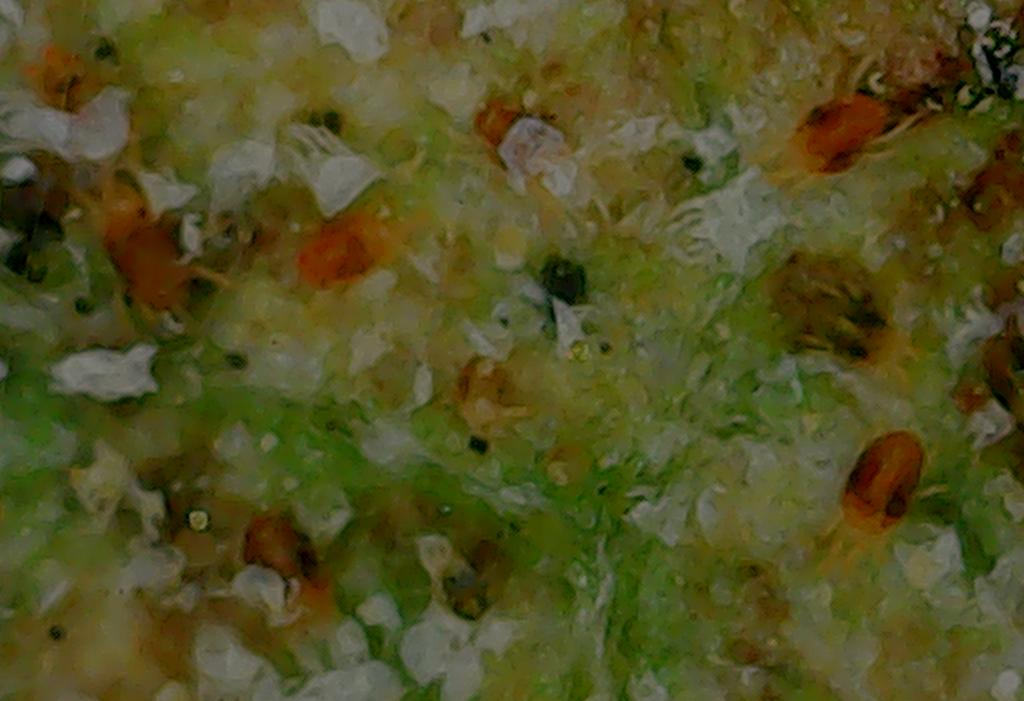tiny_pests: (42, 141, 251, 356), (733, 49, 933, 236), (789, 404, 964, 574), (263, 162, 422, 326)
